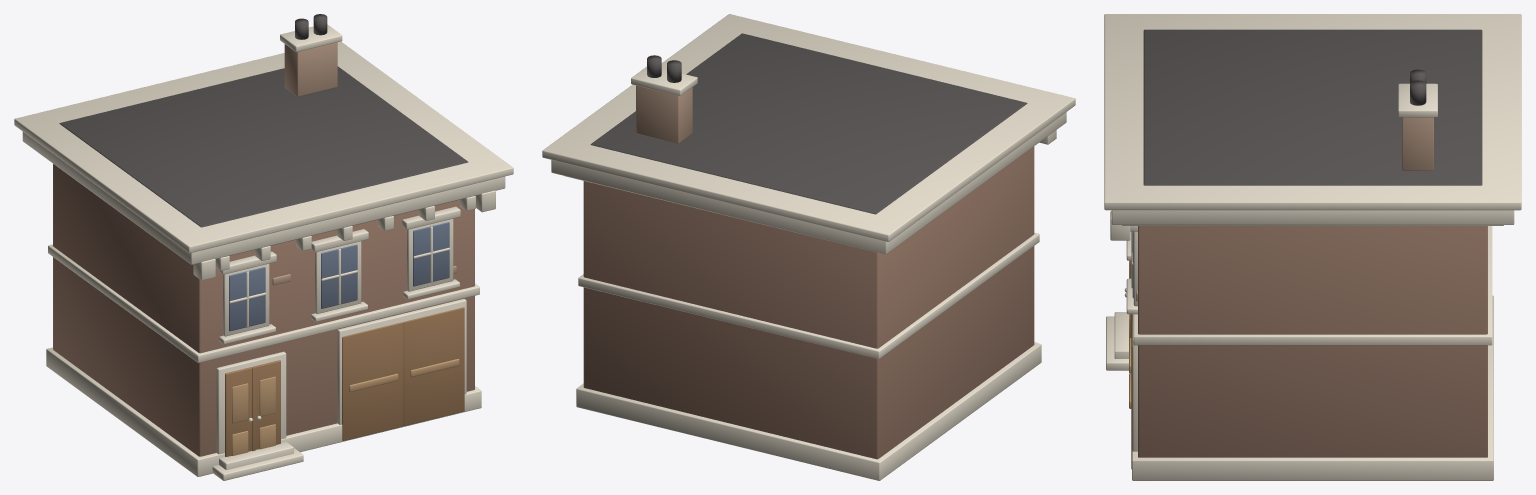
File: edificio_10a.glb
3 views of the same model, side by side, from view 1: azimuth 30°, elevation 25°; view 2: azimuth 150°, elevation 25°; view 3: azimuth 270°, elevation 25° (orthographic). The views are drawn at different scales.
Parts seen in each view (by area): view 1: corpo, tetto, cornicione_corona, carraia_anta_R, carraia_anta_L, cornicione_fascia, zoccolo, fascia_pt, comignolo_fusto, fin_p1_2_vetro, fin_p1_0_vetro, fin_p1_1_vetro (+15 smaller); view 2: corpo, tetto, cornicione_corona, zoccolo, cornicione_fascia, fascia_pt, comignolo_fusto, comignolo_cappello; view 3: corpo, tetto, cornicione_corona, zoccolo, cornicione_fascia, fascia_pt, comignolo_fusto, comignolo_cappello, carraia_cornice, gradino_alto, gradino_basso.
Boxes of the visible parts, box(x1,y1,x2,y2) form: corpo: box(53, 164, 474, 456); tetto: box(59, 66, 468, 227); cornicione_corona: box(14, 41, 513, 253); carraia_anta_R: box(403, 307, 464, 425); carraia_anta_L: box(342, 322, 403, 440); cornicione_fascia: box(22, 132, 505, 264); zoccolo: box(46, 347, 481, 476); fascia_pt: box(48, 244, 479, 362); comignolo_fusto: box(284, 42, 337, 96); fin_p1_2_vetro: box(413, 222, 449, 286); fin_p1_0_vetro: box(229, 267, 265, 331); fin_p1_1_vetro: box(321, 244, 357, 308); corpo: box(583, 146, 1034, 459); tetto: box(590, 33, 1027, 214); cornicione_corona: box(542, 14, 1075, 241); zoccolo: box(576, 342, 1041, 480); cornicione_fascia: box(551, 112, 1066, 254); fascia_pt: box(578, 232, 1039, 359); comignolo_fusto: box(636, 85, 692, 143); comignolo_cappello: box(631, 66, 697, 95); corpo: box(1138, 226, 1487, 457); tetto: box(1143, 29, 1482, 185); cornicione_corona: box(1104, 14, 1521, 210); zoccolo: box(1132, 295, 1493, 480); cornicione_fascia: box(1111, 210, 1514, 224); fascia_pt: box(1133, 226, 1492, 345); comignolo_fusto: box(1402, 117, 1433, 170); comignolo_cappello: box(1398, 83, 1437, 117); carraia_cornice: box(1132, 314, 1137, 451); gradino_alto: box(1114, 312, 1128, 358); gradino_basso: box(1106, 316, 1128, 370).
Bounding box in the file's own units: 7.65 × 7.06 × 7.15.
